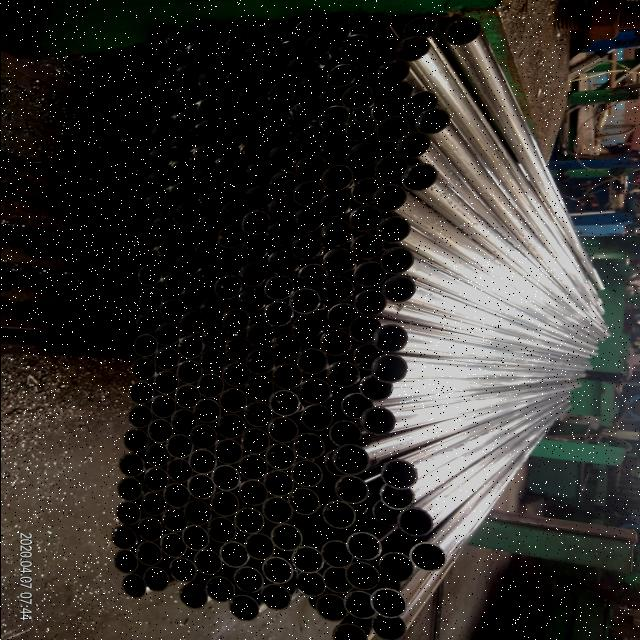pipe: (330, 441, 370, 477), (378, 458, 418, 490), (394, 506, 434, 538), (376, 550, 416, 582), (368, 588, 408, 620), (358, 404, 397, 436), (370, 323, 410, 354), (406, 541, 446, 572), (440, 16, 481, 46), (344, 530, 382, 562), (342, 560, 380, 592), (399, 162, 439, 192), (368, 354, 408, 384), (393, 130, 431, 160), (370, 182, 408, 212), (378, 274, 416, 304), (356, 373, 394, 403), (346, 204, 384, 234), (376, 482, 416, 510), (377, 245, 414, 275), (373, 58, 411, 87), (412, 108, 451, 136), (372, 153, 408, 183), (374, 214, 410, 244), (344, 140, 380, 170), (318, 539, 354, 569), (313, 593, 349, 623), (268, 522, 304, 552), (374, 115, 411, 144), (392, 34, 430, 62), (321, 500, 356, 530), (341, 590, 376, 620), (351, 342, 386, 372), (286, 486, 321, 516), (348, 177, 384, 206), (324, 359, 360, 388), (402, 90, 439, 118), (332, 476, 369, 504), (369, 613, 407, 640), (286, 286, 320, 316), (347, 315, 382, 344), (289, 545, 324, 574), (338, 82, 374, 110), (316, 134, 352, 162), (318, 164, 354, 192), (348, 232, 384, 260), (351, 260, 387, 288), (319, 275, 355, 303), (296, 377, 332, 405), (260, 469, 294, 498), (242, 532, 276, 561), (352, 56, 387, 84), (342, 114, 377, 142), (352, 288, 387, 316), (318, 329, 353, 357), (339, 392, 374, 420), (327, 420, 362, 448), (298, 404, 333, 432), (288, 461, 324, 488), (370, 500, 404, 528), (316, 190, 350, 218), (318, 220, 352, 248), (320, 247, 354, 275), (326, 302, 360, 330), (320, 566, 354, 594), (290, 206, 324, 234), (288, 314, 322, 342), (294, 347, 328, 375), (291, 432, 325, 460), (260, 556, 294, 584), (264, 142, 298, 170), (260, 300, 294, 328), (270, 362, 304, 390), (267, 389, 301, 417), (264, 416, 298, 444), (260, 496, 294, 524), (242, 348, 276, 376), (369, 96, 404, 123), (316, 105, 351, 132), (298, 34, 334, 60), (206, 515, 237, 545), (264, 442, 296, 471), (293, 154, 326, 182), (258, 583, 291, 611), (243, 320, 276, 348), (214, 412, 247, 440), (203, 576, 236, 604), (290, 180, 324, 207), (399, 16, 437, 40), (357, 12, 392, 38), (373, 36, 405, 64), (282, 54, 314, 82), (292, 125, 324, 153), (290, 232, 322, 260), (294, 570, 326, 598), (264, 80, 296, 108), (262, 220, 294, 248), (264, 248, 296, 276), (270, 332, 302, 360), (232, 565, 264, 593), (227, 594, 259, 622), (236, 260, 268, 288), (242, 374, 274, 402), (239, 427, 271, 455), (212, 438, 244, 466), (236, 478, 268, 506), (209, 464, 241, 492), (232, 506, 264, 534), (218, 541, 250, 569), (166, 556, 198, 584), (233, 82, 266, 109), (336, 33, 370, 59), (320, 10, 354, 36), (294, 74, 326, 101), (296, 262, 328, 289), (266, 170, 298, 197), (241, 160, 273, 187), (240, 209, 272, 236), (241, 401, 273, 428), (236, 454, 268, 481), (324, 62, 357, 88), (283, 102, 316, 128), (264, 196, 297, 222), (192, 68, 225, 94), (220, 306, 250, 334), (217, 386, 247, 414), (210, 490, 240, 518), (186, 472, 216, 500), (182, 498, 212, 526), (180, 524, 210, 552), (192, 548, 222, 576), (186, 448, 217, 475), (163, 433, 194, 460), (270, 40, 302, 66), (258, 120, 290, 146), (262, 274, 294, 300), (238, 111, 270, 137), (148, 74, 180, 100), (211, 126, 243, 152), (240, 185, 272, 211), (235, 287, 267, 313), (220, 362, 252, 388), (258, 19, 288, 46), (215, 223, 245, 250), (188, 423, 218, 450), (291, 18, 324, 42), (160, 506, 188, 534), (119, 572, 147, 600), (161, 482, 190, 509), (252, 60, 282, 86), (222, 66, 252, 92), (152, 52, 182, 78), (194, 94, 224, 120), (170, 107, 200, 133), (238, 138, 268, 164), (212, 152, 242, 178), (190, 142, 220, 168), (141, 168, 171, 194), (188, 166, 218, 192), (216, 174, 246, 200), (218, 199, 248, 225), (192, 212, 222, 238), (238, 236, 268, 262), (171, 224, 201, 250), (214, 248, 244, 274), (212, 274, 242, 300), (194, 264, 224, 290), (197, 295, 227, 321), (222, 336, 252, 362), (199, 323, 229, 349), (175, 334, 205, 360), (197, 348, 227, 374), (195, 373, 225, 399), (192, 398, 222, 424), (168, 408, 198, 434), (134, 516, 164, 542), (178, 583, 208, 609), (158, 532, 188, 558), (133, 540, 163, 566), (140, 566, 170, 592), (240, 42, 272, 66), (144, 144, 173, 170), (192, 236, 221, 262), (191, 118, 221, 143), (146, 121, 176, 146), (194, 189, 224, 214), (176, 310, 206, 335), (212, 42, 243, 66), (167, 156, 195, 182), (170, 201, 198, 227), (152, 240, 180, 266), (153, 321, 181, 347), (152, 345, 180, 371), (152, 369, 180, 395), (172, 383, 200, 409), (122, 427, 150, 453), (116, 452, 144, 478), (142, 466, 170, 492), (114, 476, 142, 502), (138, 491, 166, 517), (109, 524, 137, 550), (111, 548, 139, 574), (330, 622, 370, 640), (232, 22, 262, 46), (204, 23, 234, 47), (216, 104, 246, 128), (147, 99, 177, 123), (166, 132, 196, 156), (164, 180, 194, 204), (178, 284, 208, 308), (175, 359, 202, 385), (146, 418, 173, 444), (136, 286, 164, 311), (130, 333, 158, 358), (148, 394, 176, 419), (142, 443, 170, 468), (164, 458, 192, 483), (114, 501, 142, 526), (139, 192, 168, 216), (172, 252, 201, 276), (158, 272, 187, 296), (157, 298, 186, 322), (160, 27, 188, 51), (184, 38, 212, 62), (170, 84, 198, 108), (130, 230, 158, 254), (134, 262, 162, 286), (133, 310, 161, 334), (126, 404, 154, 428), (149, 213, 175, 238), (176, 60, 203, 84), (130, 357, 156, 381), (128, 381, 154, 405)
